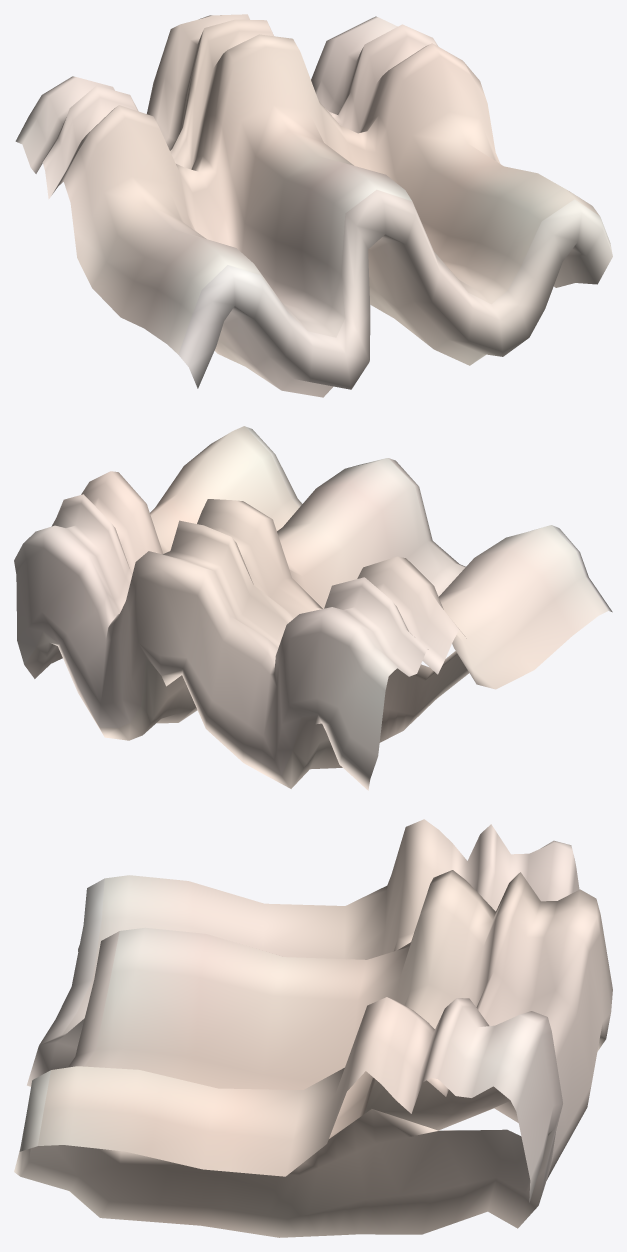
Rendered from cream-rosettes.glb.
3 renders of one model, top to bottom at view 1: azimuth 30°, elevation 25°; view 2: azimuth 150°, elevation 25°; view 3: azimuth 270°, elevation 25°, orthographic. The views are drawn at different scales.
Bounding box in the file's own units: 0.9888 × 0.5656 × 1.
1 material, 1 textured.
